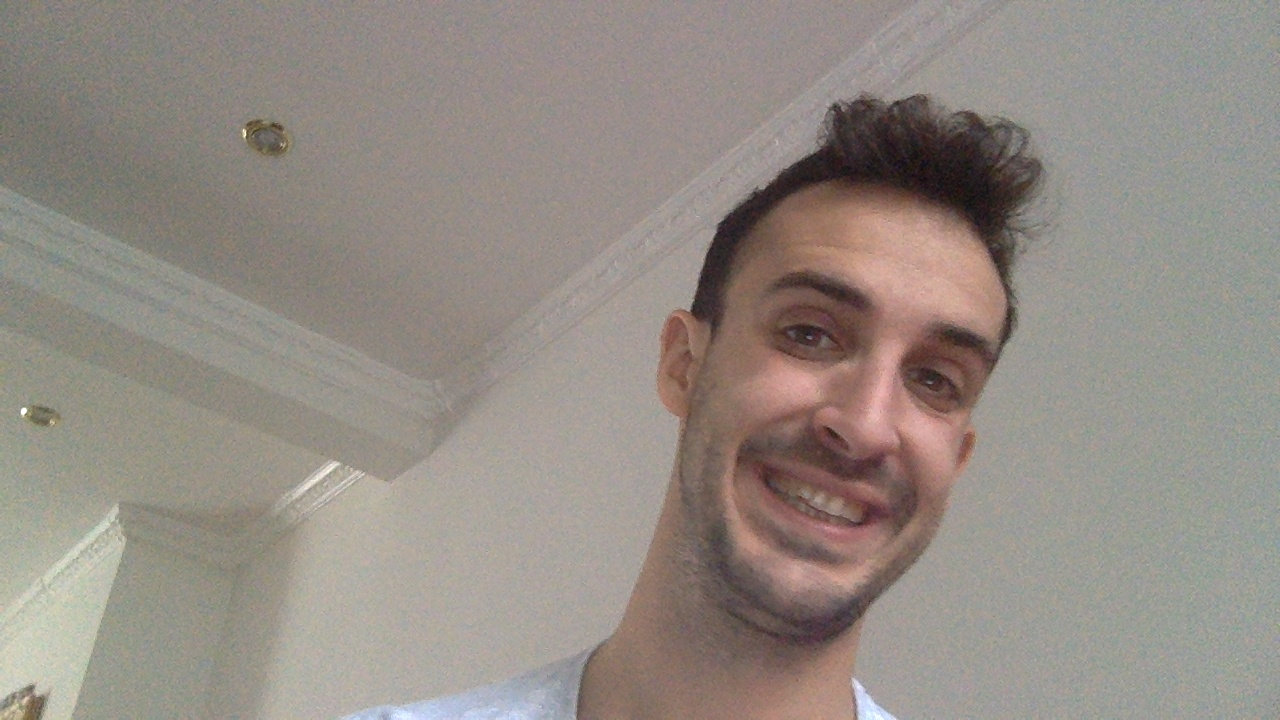smile: (757, 456, 892, 551)
